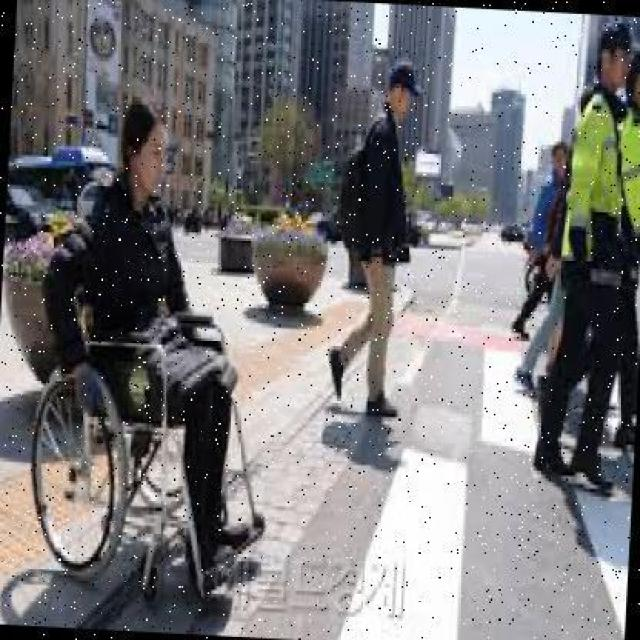Person: (20, 91, 289, 608), (542, 13, 640, 489), (328, 63, 424, 414)
